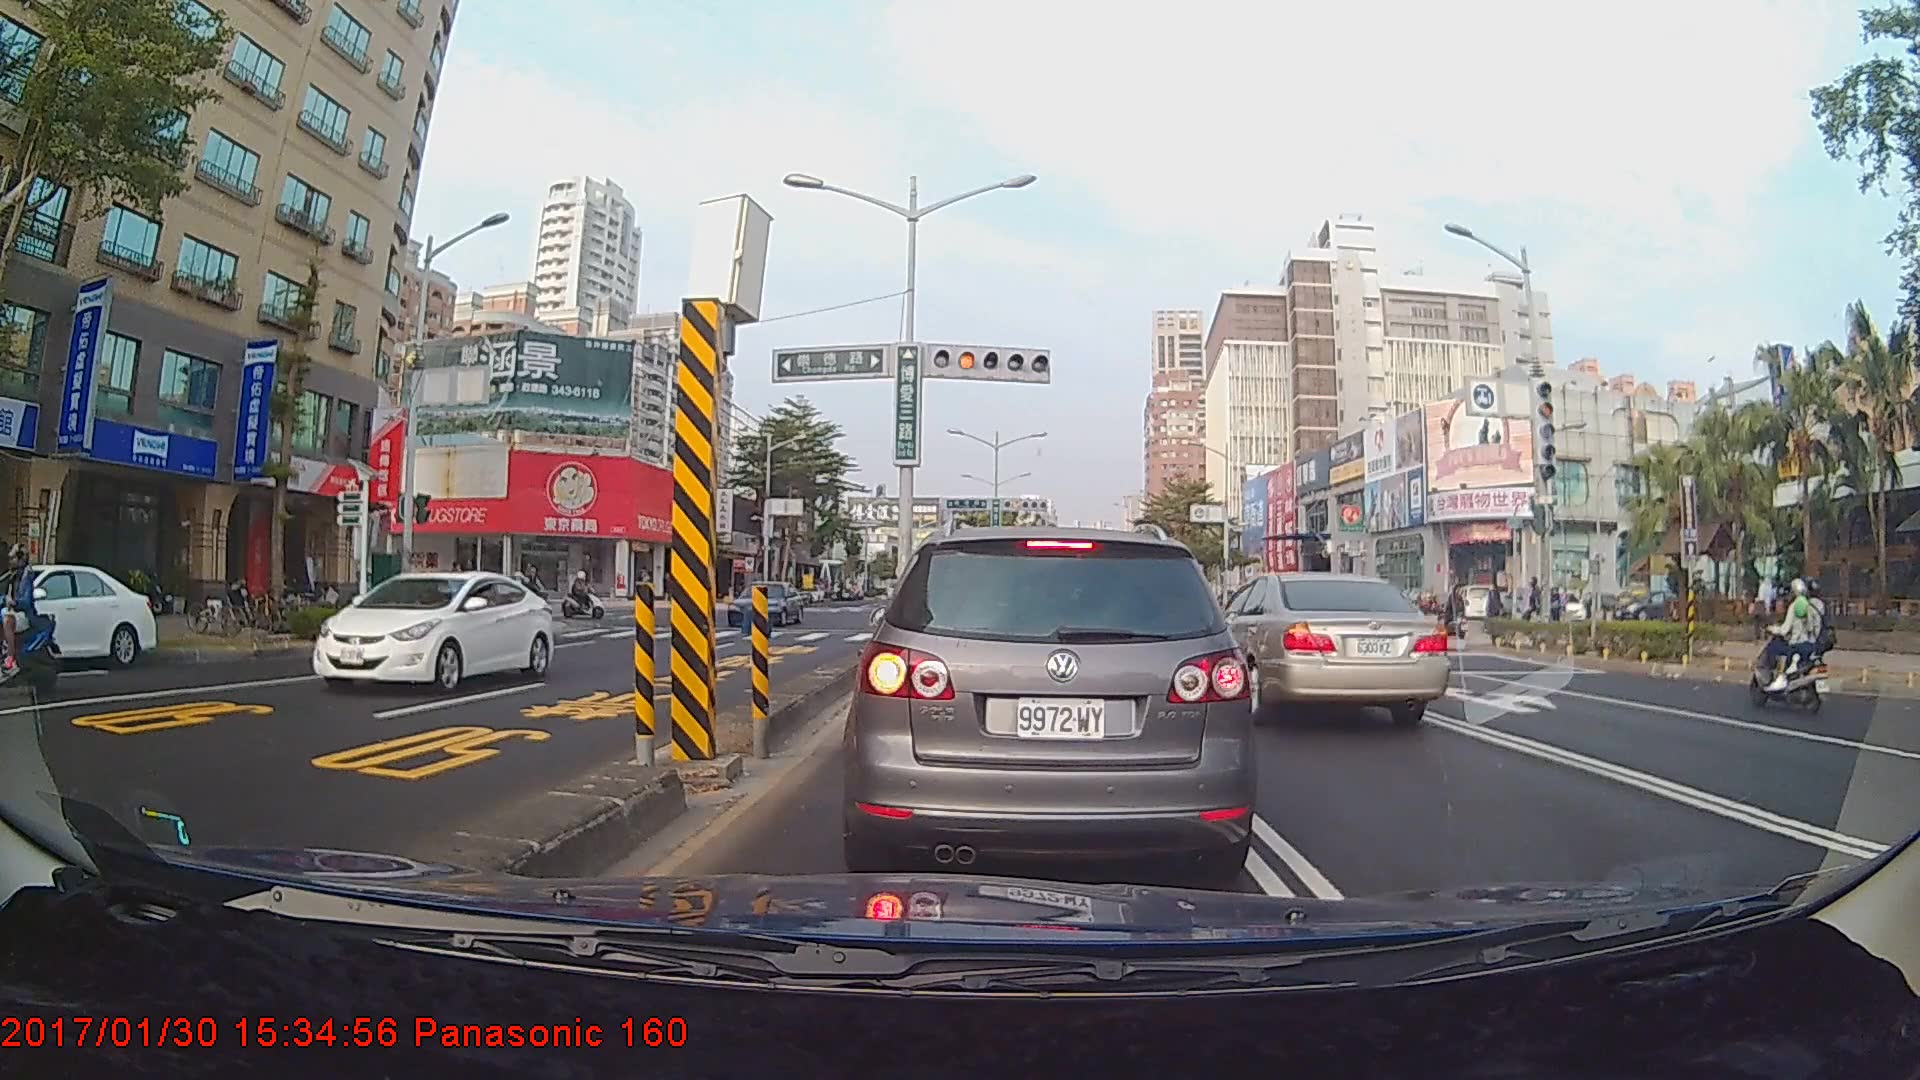pedestrian: (1751, 574, 1777, 646), (1484, 579, 1508, 637), (448, 558, 468, 621)
rider: (1747, 574, 1836, 713), (1, 549, 67, 693), (561, 568, 613, 625), (1436, 582, 1473, 646)
vehicle: (855, 524, 1248, 871), (1195, 569, 1449, 731), (310, 569, 552, 695), (0, 561, 172, 671), (724, 580, 803, 626)
